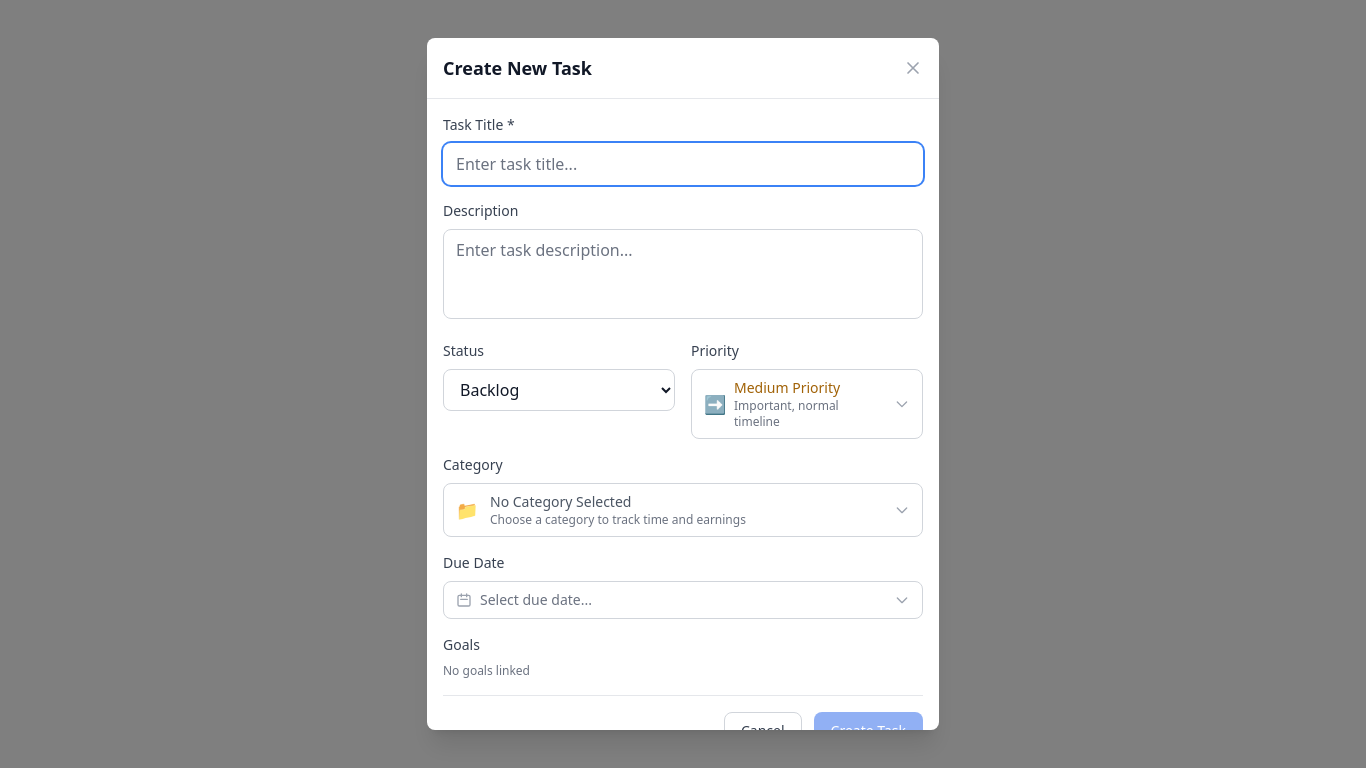
Scenario: Categories Load in Task Modal - Regression › REGRESSION: Create Task modal shows categories when shared from parent (no Loading hang)
Expected: the heading "Create New Task" is shown, [443, 54, 592, 82]
Expected: the text "Category" is shown, [443, 455, 503, 474]
Open the category dropdown
Click the button that starts with "No Category Selected".
click(683, 510)  # box [443, 483, 923, 537]
(page scrolled)
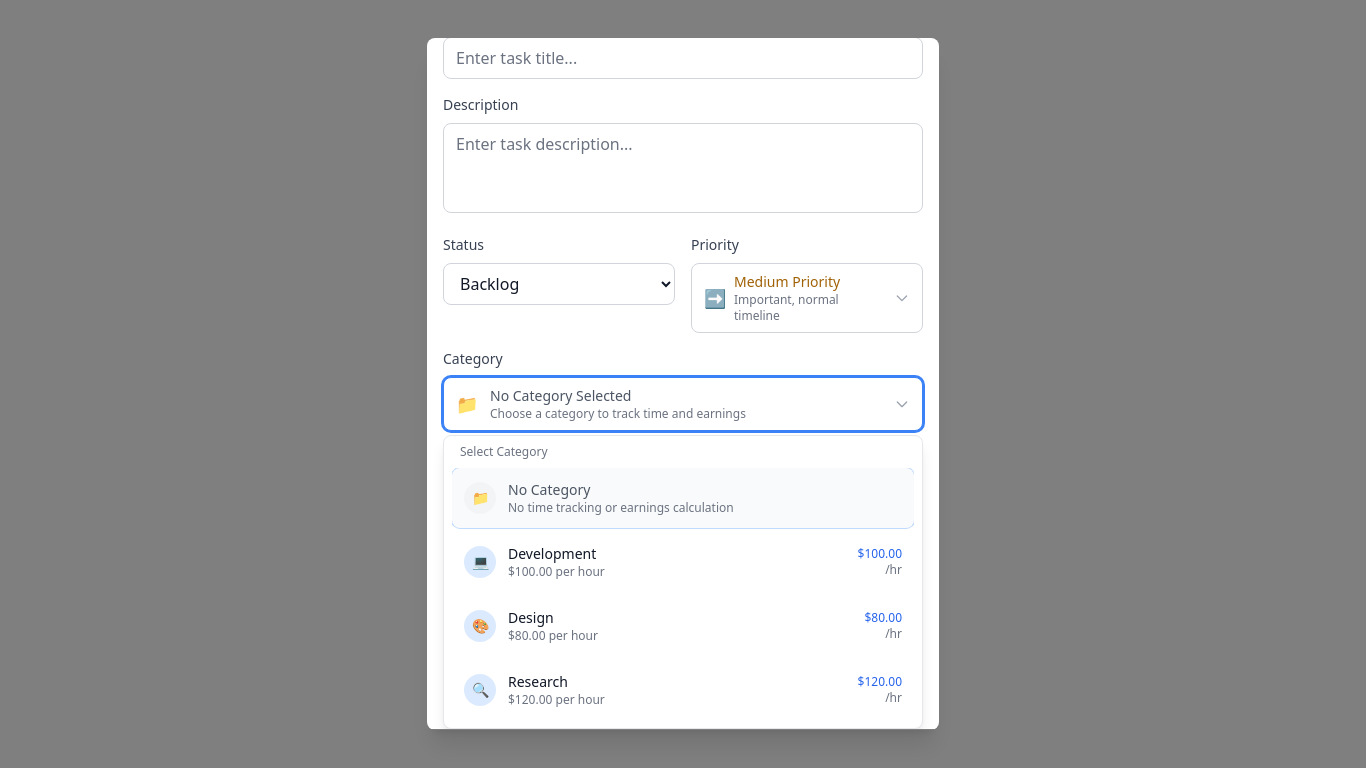
Expected: the text "Development" is shown, [508, 544, 605, 564]
Expected: the text "Design" is shown, [508, 608, 554, 627]
Expected: the text "Research" is shown, [508, 672, 568, 691]
